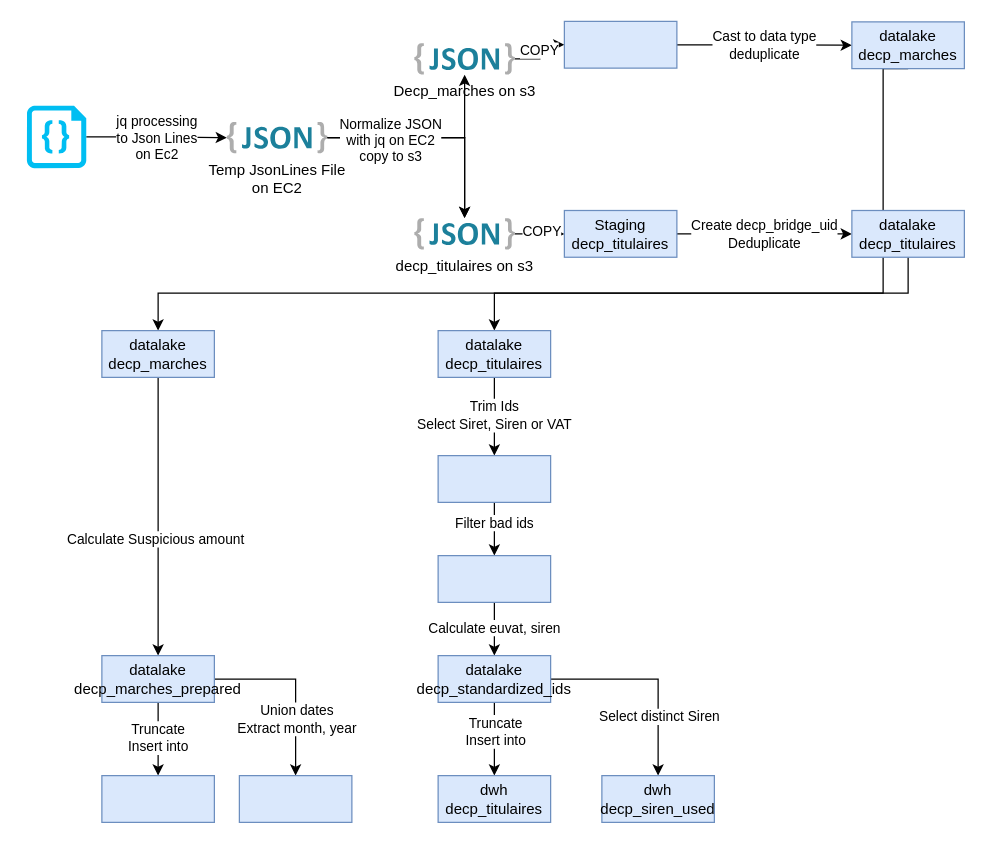
Some shapes in this 988 by 845 pixel diagram are drawn without their labels. The shapes that lost their labels are listed below. From the top down, each one's centre as x and y in pixels, then its label:
At [620,44]: "Staging decp_marches".
At [56,136]: "Json Array on server".
At [494,478]: "datalake decp_trimmed_ids".
At [494,578]: "datalake decp_valid_ids".
At [157,798]: "dwh decp_marches".
At [295,798]: "dwh time".
